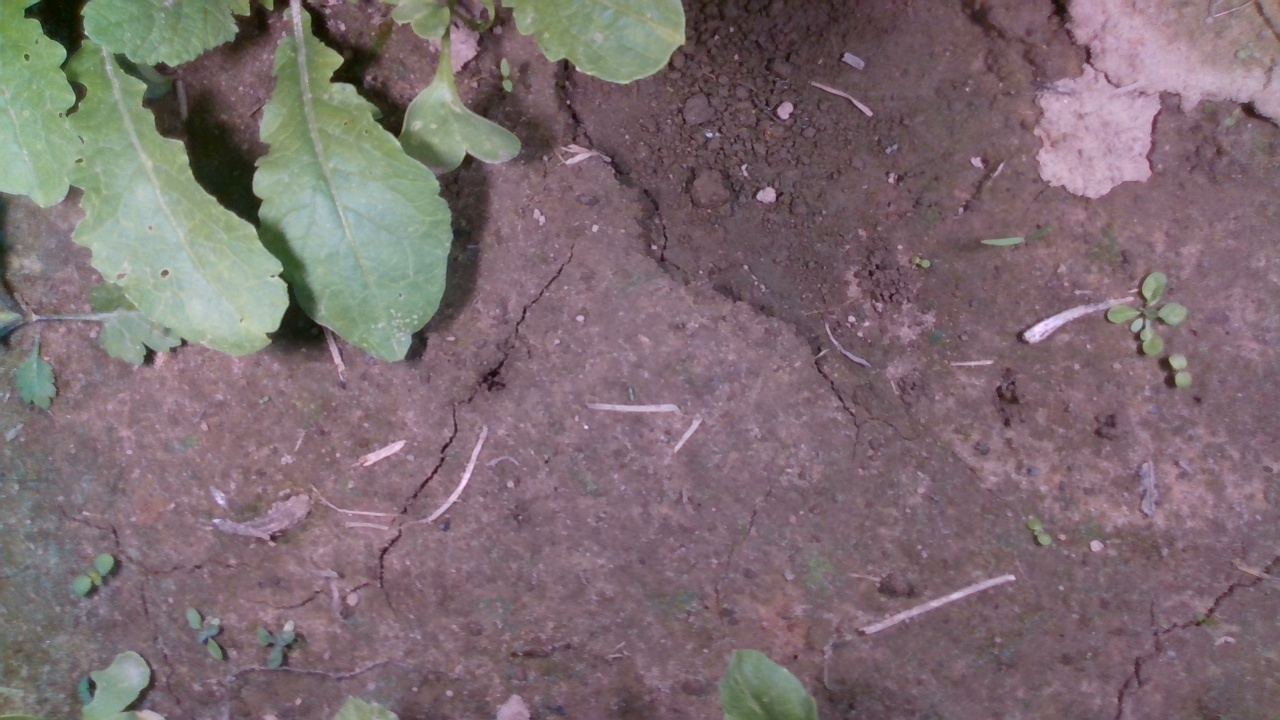weed: (184, 605, 224, 660), (253, 624, 298, 671), (72, 551, 114, 598), (1167, 350, 1194, 391), (1023, 514, 1053, 547), (497, 54, 514, 94), (909, 255, 933, 270)
